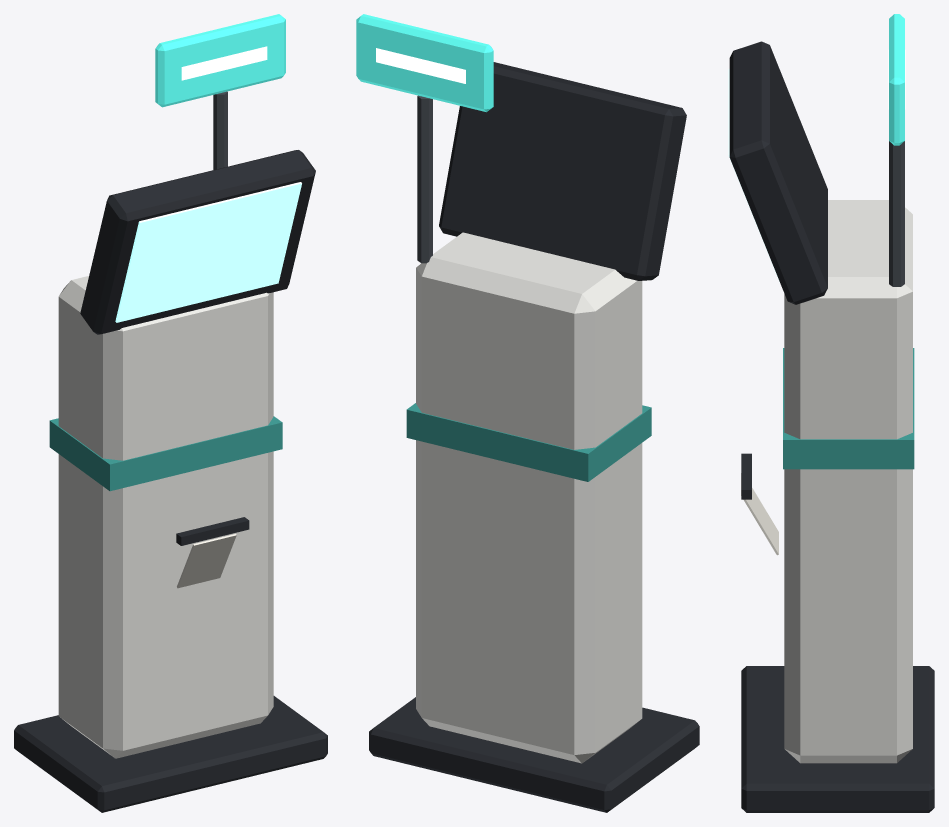
The model's file is selfservice_2.glb.
3 views of the same model, side by side, from view 1: azimuth 30°, elevation 25°; view 2: azimuth 150°, elevation 25°; view 3: azimuth 270°, elevation 25° (orthographic). The views are drawn at different scales.
Visible parts, largest first — view 1: selfservice_2_mesh; view 2: selfservice_2_mesh; view 3: selfservice_2_mesh.
Boxes of the visible parts, x1=… form: selfservice_2_mesh: x1=14, y1=14, x2=327, y2=812; selfservice_2_mesh: x1=356, y1=14, x2=699, y2=812; selfservice_2_mesh: x1=728, y1=14, x2=934, y2=812.
Size of the model in its own units: 0.6 by 1.54 by 0.3839.
